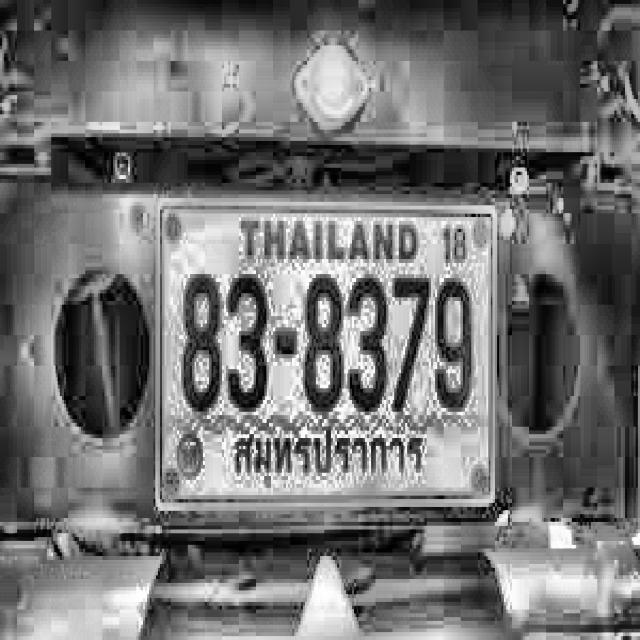license-plate: (152, 192, 502, 514)
